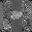people: (10, 10, 23, 20)
